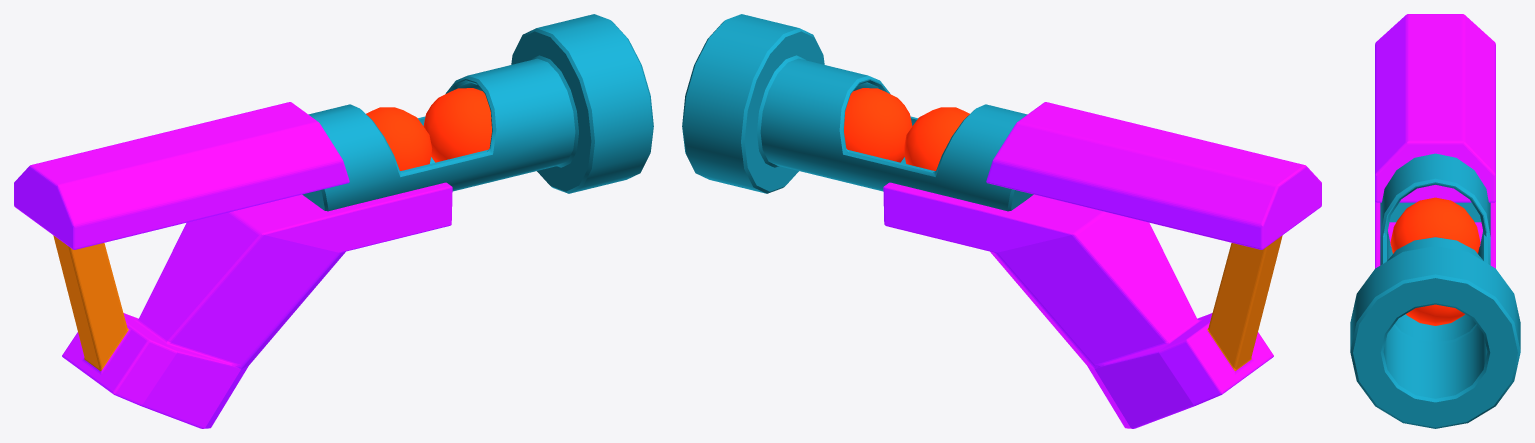
Rendered from Rifle.fbx.
The picture shows the model from 3 angles, left to right: view 1: azimuth 30°, elevation 25°; view 2: azimuth 150°, elevation 25°; view 3: azimuth 270°, elevation 25°; orthographic projection.
Visible parts, largest first — view 1: Rifle, Balls; view 2: Rifle, Balls; view 3: Rifle, Balls.
Boxes of the visible parts, x1=… form: Rifle: x1=14, y1=14, x2=653, y2=428; Balls: x1=366, y1=88, x2=491, y2=170; Rifle: x1=682, y1=14, x2=1321, y2=428; Balls: x1=844, y1=88, x2=969, y2=170; Rifle: x1=1350, y1=14, x2=1520, y2=428; Balls: x1=1390, y1=197, x2=1480, y2=325.
Bounding box in the file's own units: 7.33 × 3.77 × 1.89.
